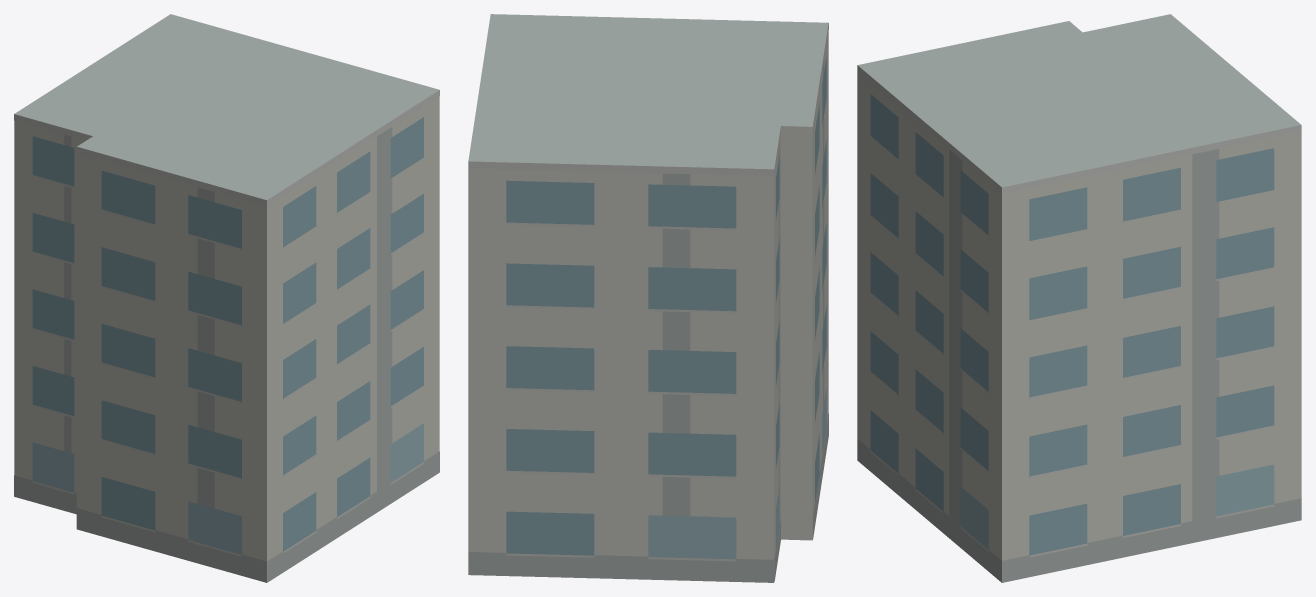
The model's file is survey-upis-32950737.glb.
The picture shows the model from 3 angles, left to right: view 1: azimuth 30°, elevation 25°; view 2: azimuth 150°, elevation 25°; view 3: azimuth 270°, elevation 25°; orthographic projection. The views are drawn at different scales.
Visible parts, largest first — view 1: survey-upis-32950737.tmp; view 2: survey-upis-32950737.tmp; view 3: survey-upis-32950737.tmp.
Boxes of the visible parts, x1,y1,x2,y2 form: survey-upis-32950737.tmp: [14, 14, 439, 582]; survey-upis-32950737.tmp: [468, 14, 828, 582]; survey-upis-32950737.tmp: [857, 14, 1301, 582].
Bounding box in the file's own units: 13.48 × 14.32 × 14.58.
